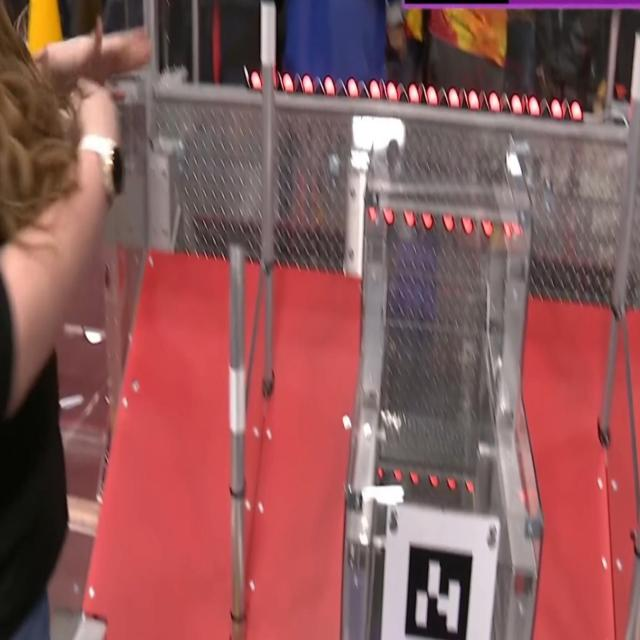frc_cone: (20, 0, 67, 54)
